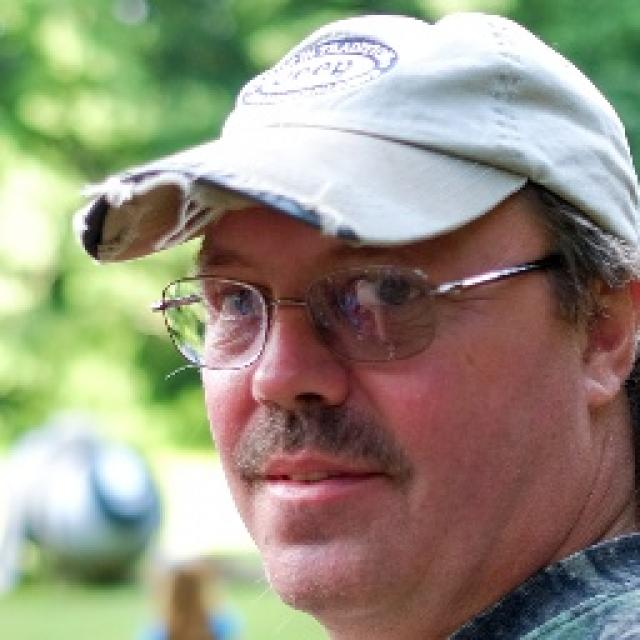earlobe: (579, 378, 624, 407)
eye: (339, 275, 429, 307), (215, 293, 262, 320)
nose: (255, 395, 349, 448)
wholeear: (577, 268, 640, 408)
